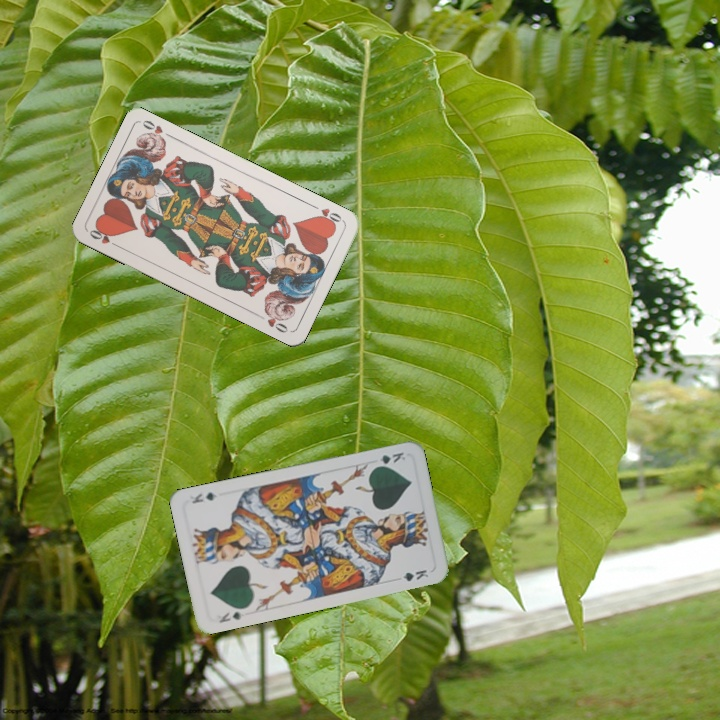GK: (370, 448, 408, 470), (215, 607, 244, 625)
HO: (308, 201, 346, 228), (85, 223, 123, 250)
